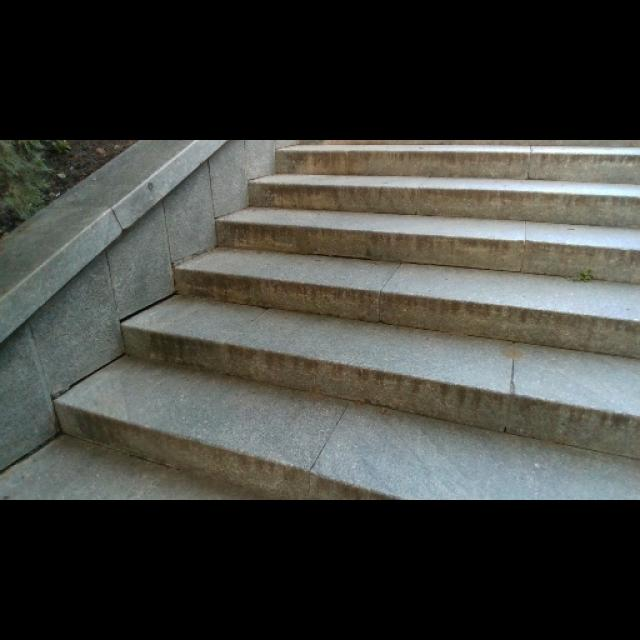Stairs: (10, 139, 639, 499)
